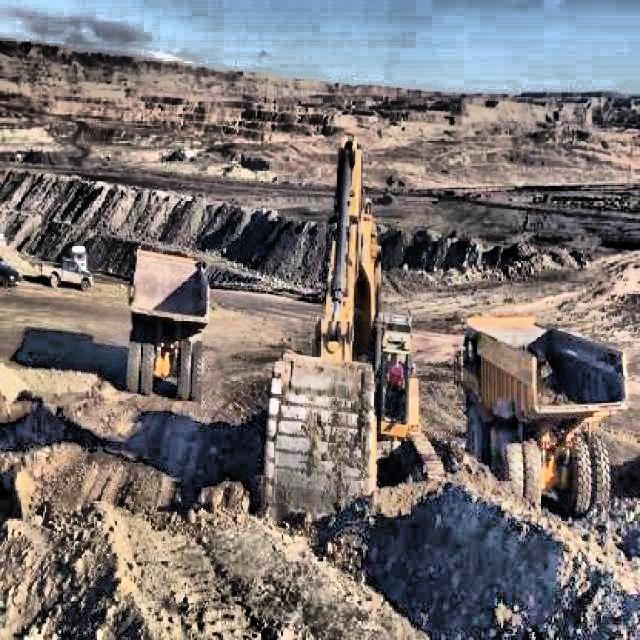dump_truck: (462, 315, 630, 520), (124, 246, 208, 412)
excavator: (260, 128, 448, 528)
